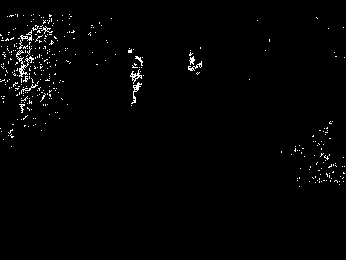person: (129, 51, 146, 110)
